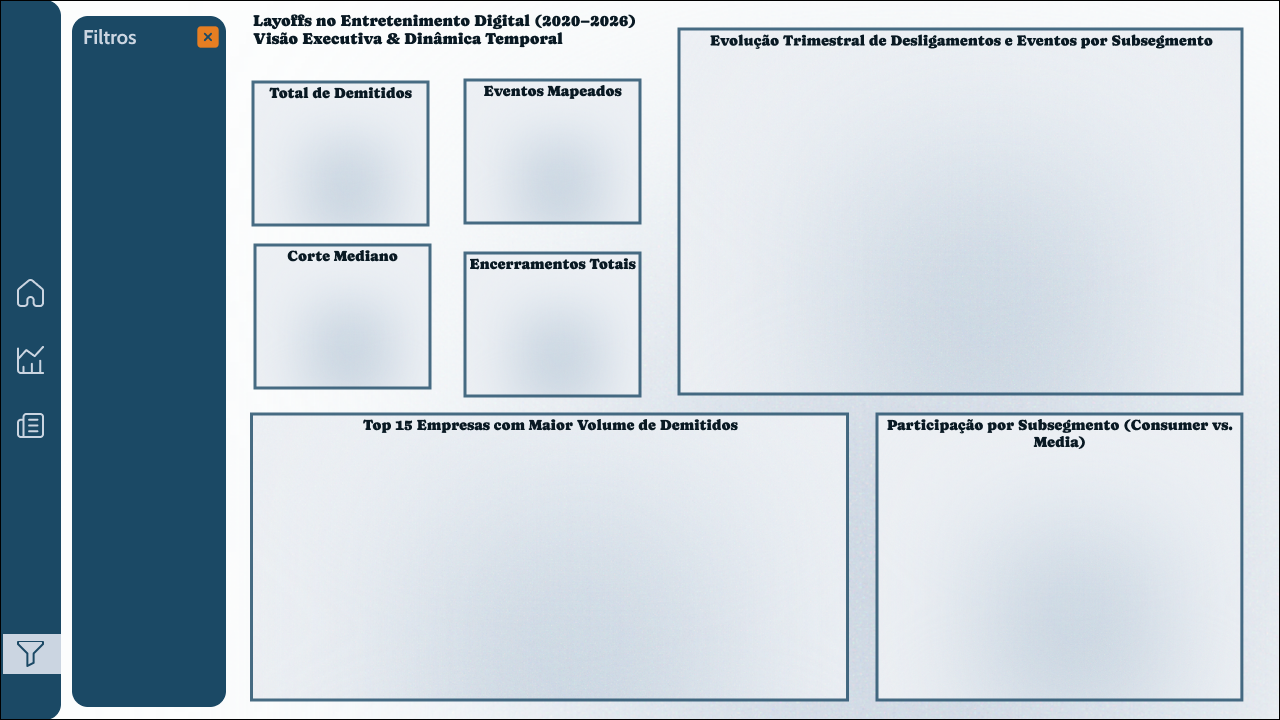

What the dashboard file says about the page in this screenshot:
{"tool":"powerbi","page":{"name":"Dinâmica Temporal","canvas":[1920,1080],"ordinal":1},"visuals":[{"type":"group","id":"g1","title":"Padrão","box":[0,0,1920,1080],"z":0},{"type":"image","box":[0,0,1920,1080],"z":0,"group":"g1"},{"type":"cardVisual","fields":{"Data":["Sum(vw_evolucao_temporal.total_laid_off)"]},"box":[120,144,280,200],"z":1000,"group":"g1"},{"type":"cardVisual","fields":{"Data":["layoffs.Eventos_Mapeados"]},"box":[504,144,280,200],"z":2000,"group":"g1"},{"type":"cardVisual","fields":{"Data":["Median(layoffs.percentage_laid_off)"]},"box":[120,384,280,200],"z":3000,"group":"g1"},{"type":"cardVisual","fields":{"Data":["layoffs.Encerramentos_Totais"]},"box":[504,384,280,200],"z":4000,"group":"g1"},{"type":"actionButton","title":"Painel Filtros","box":[7,945,72,72],"z":4000},{"type":"lineStackedColumnComboChart","fields":{"Category":["layoffs.Periodo_Trimestre"],"Series":["layoffs.industry"],"Y":["Sum(layoffs.total_laid_off)"],"Y2":["layoffs.Eventos_Mapeados"]},"box":[888,96,960,456],"z":5000,"group":"g1"},{"type":"actionButton","title":"Painel Navegação","box":[7,505,72,72],"z":5000},{"type":"pageNavigator","title":"Sobre o Case","box":[12,608,60,60],"z":6000},{"type":"clusteredBarChart","fields":{"Category":["layoffs.company"],"Y":["Sum(layoffs.total_laid_off)"]},"box":[120,672,1032,384],"z":6000,"group":"g1"},{"type":"pageNavigator","title":"Home","box":[22,418,60,60],"z":7000},{"type":"donutChart","fields":{"Category":["layoffs.industry"],"Y":["Sum(layoffs.total_laid_off)"]},"box":[1224,672,624,384],"z":7000,"group":"g1"}]}

Visuals, with their boxes on the page's 1920x1080 design canvas (x1, y1, x2, y2). These are canvas units, not pixel positions in the 1280x720 screenshot, which may show the page scaled, cropped or inside an application window:
"Padrão" group: [left=0, top=0, right=1920, bottom=1080]
image: [left=0, top=0, right=1920, bottom=1080]
cardVisual - Sum(vw_evolucao_temporal.total_laid_off): [left=120, top=144, right=400, bottom=344]
cardVisual - layoffs.Eventos_Mapeados: [left=504, top=144, right=784, bottom=344]
cardVisual - Median(layoffs.percentage_laid_off): [left=120, top=384, right=400, bottom=584]
cardVisual - layoffs.Encerramentos_Totais: [left=504, top=384, right=784, bottom=584]
"Painel Filtros" actionButton: [left=7, top=945, right=79, bottom=1017]
lineStackedColumnComboChart - layoffs.Periodo_Trimestre x layoffs.industry: [left=888, top=96, right=1848, bottom=552]
"Painel Navegação" actionButton: [left=7, top=505, right=79, bottom=577]
"Sobre o Case" pageNavigator: [left=12, top=608, right=72, bottom=668]
clusteredBarChart - layoffs.company x Sum(layoffs.total_laid_off): [left=120, top=672, right=1152, bottom=1056]
"Home" pageNavigator: [left=22, top=418, right=82, bottom=478]
donutChart - layoffs.industry x Sum(layoffs.total_laid_off): [left=1224, top=672, right=1848, bottom=1056]
